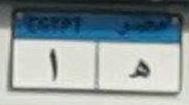1: (48, 48, 59, 81)
haa: (128, 57, 151, 81)
